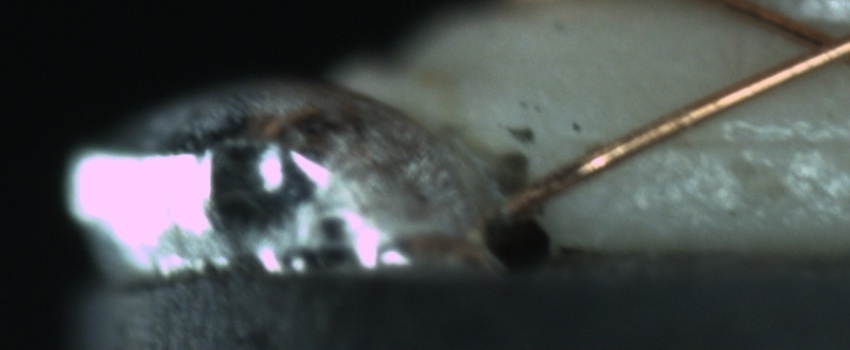CL: (775, 14, 850, 77)
DL: (670, 107, 850, 172)
